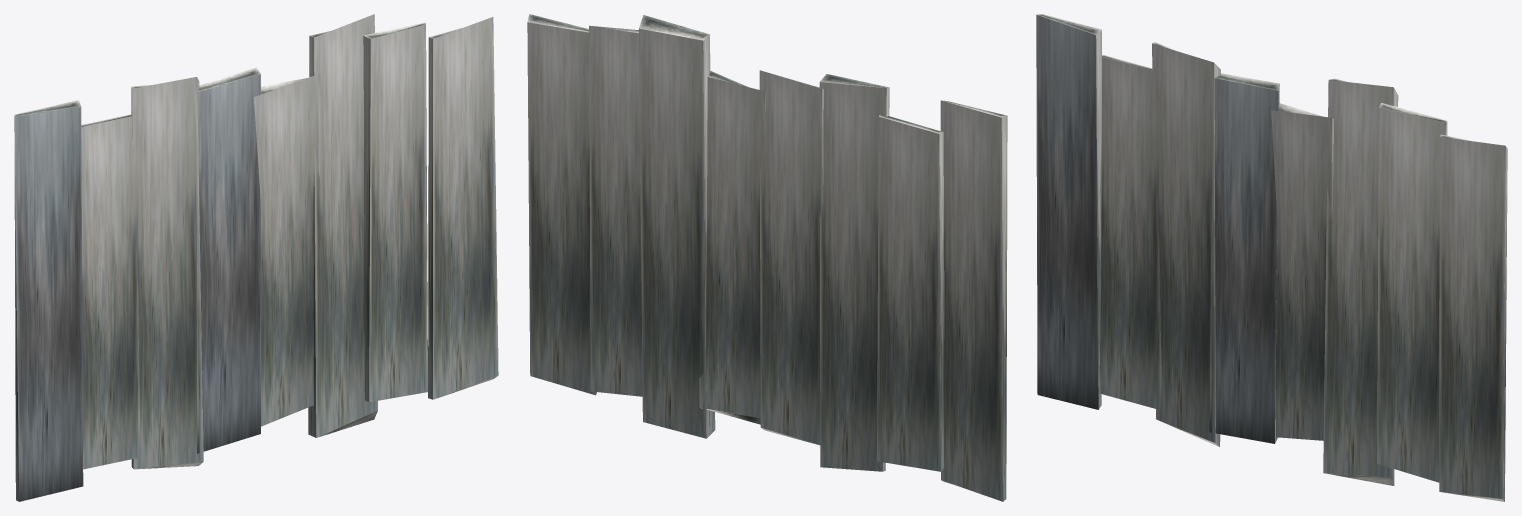
File: solid_metal_10x5.DAE
The picture shows the model from 3 angles, left to right: view 1: azimuth 30°, elevation 25°; view 2: azimuth 150°, elevation 25°; view 3: azimuth 330°, elevation 25°; orthographic projection.
Parts seen in each view (by area): view 1: Object007; view 2: Object007; view 3: Object007.
Part boxes in pixels (<box>): Object007: <box>14,14,498,501</box>; Object007: <box>527,14,1007,501</box>; Object007: <box>1036,14,1507,501</box>.
Bounding box in the file's own units: 11.5 × 9.38 × 0.4417.
